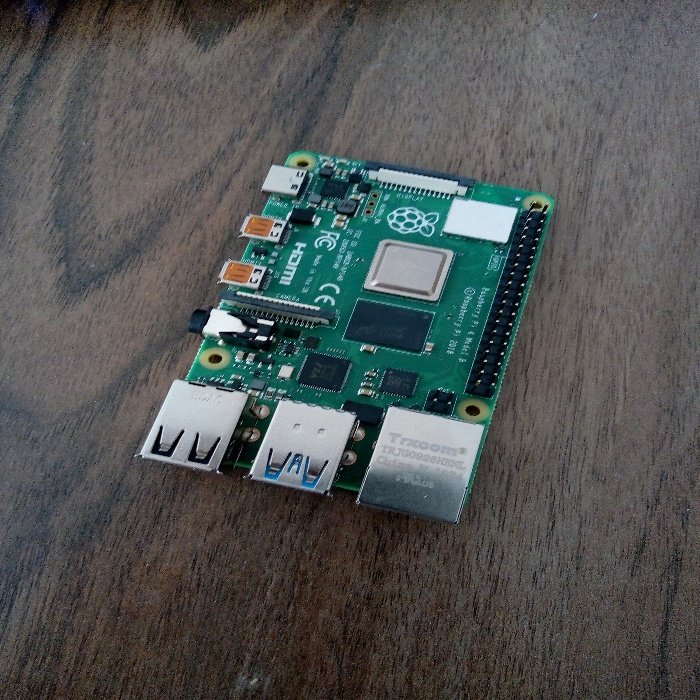raspberry: (139, 109, 561, 521)
